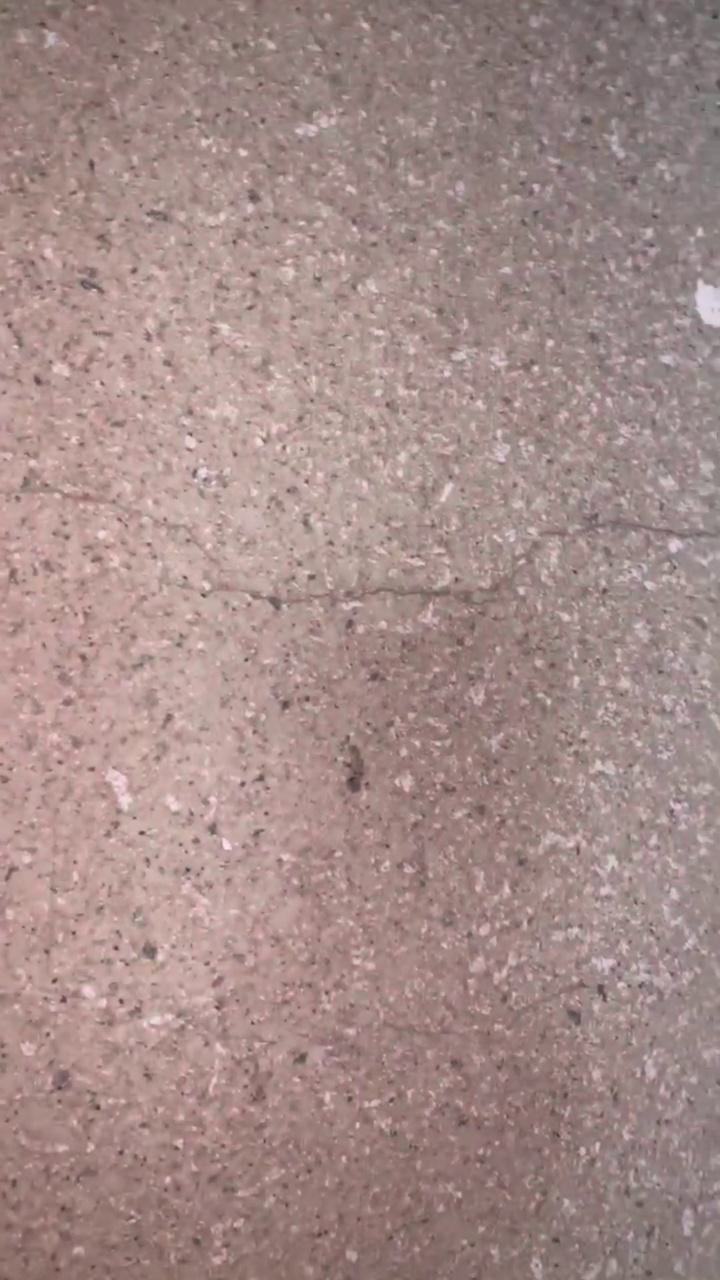Crack: (1, 484, 720, 605)
